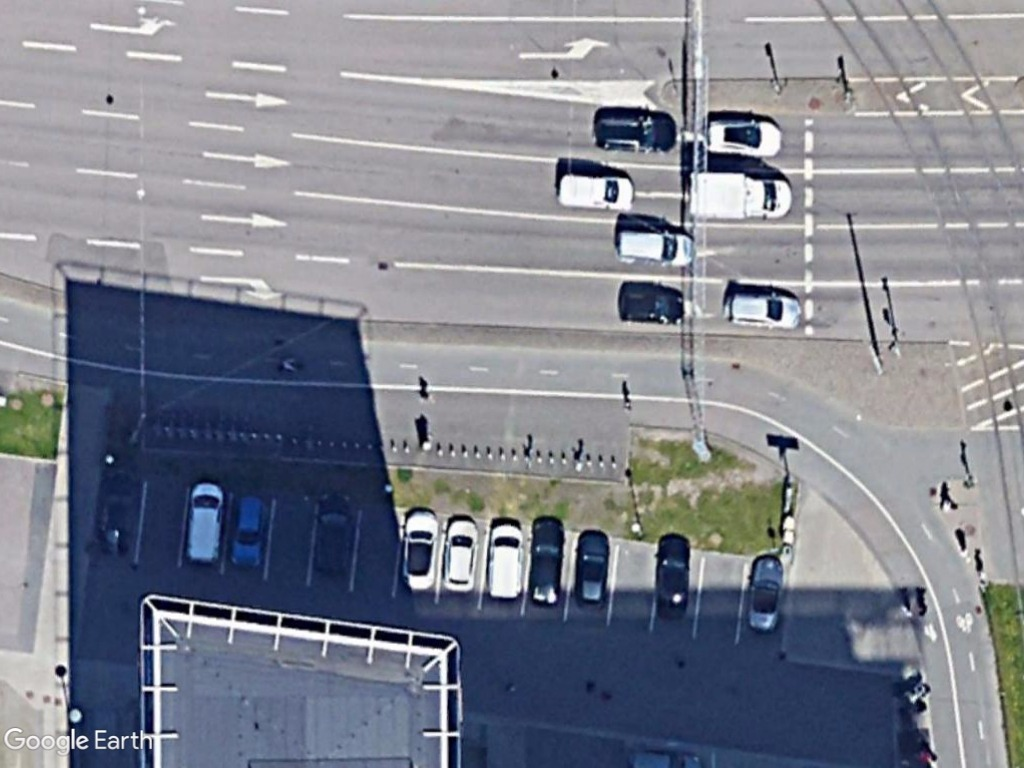car: (393, 505, 446, 598), (647, 534, 697, 628), (739, 549, 791, 638), (717, 285, 809, 334), (592, 108, 683, 157), (612, 220, 703, 269), (613, 284, 698, 334), (522, 515, 567, 609), (704, 111, 788, 160), (224, 487, 270, 574), (552, 171, 640, 215), (568, 527, 613, 611), (440, 513, 483, 599)
truck: (685, 164, 799, 225)
van: (177, 478, 227, 570), (483, 519, 528, 604)
